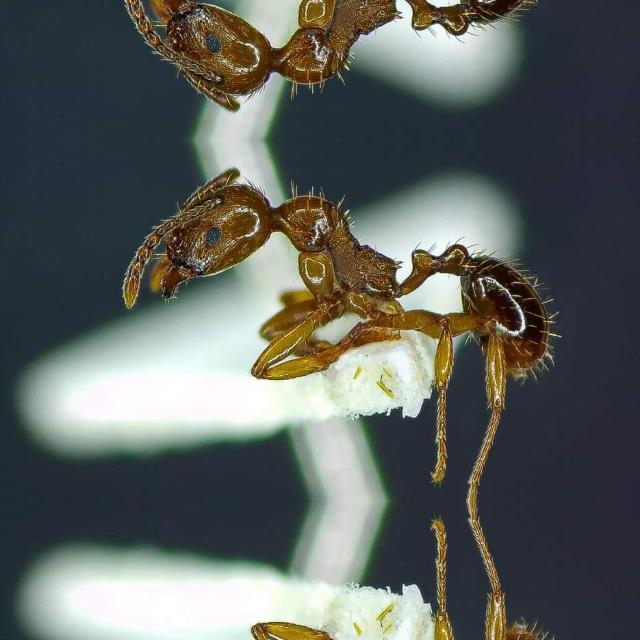Apheanogaster: (96, 160, 586, 404), (94, 0, 586, 118)
